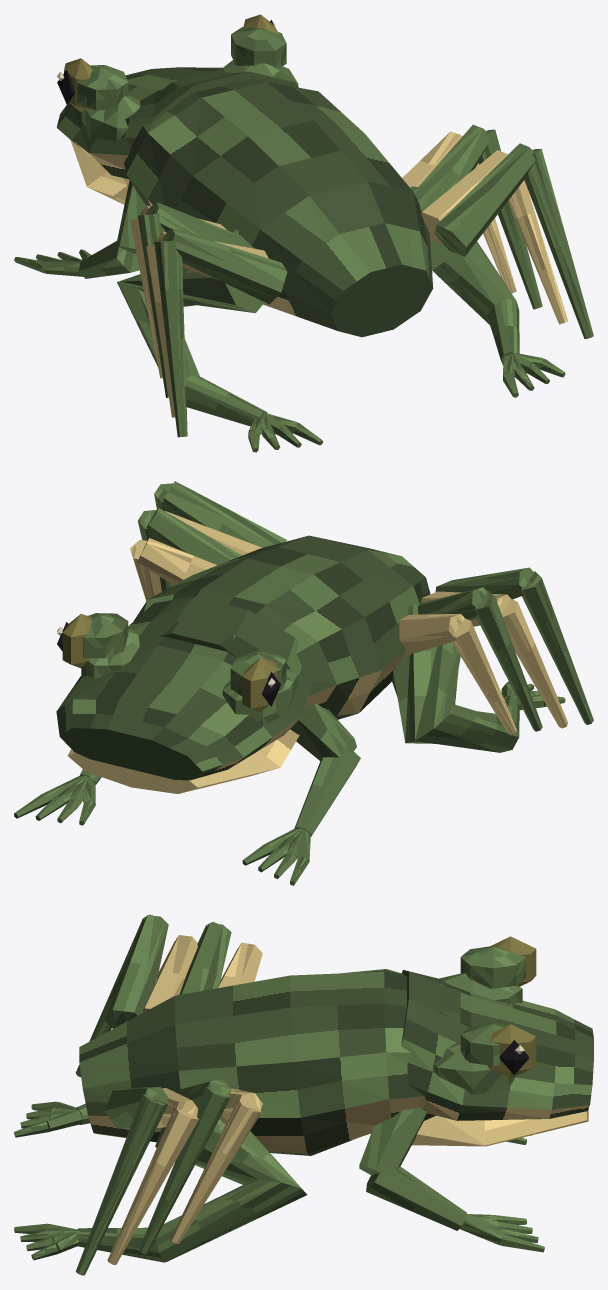
The model's file is mon_green_worm.glb.
The picture shows the model from 3 angles, top to bottom: view 1: azimuth 30°, elevation 25°; view 2: azimuth 150°, elevation 25°; view 3: azimuth 270°, elevation 25°; orthographic projection.
Visible parts, largest first — view 1: closed_body; view 2: closed_body; view 3: closed_body.
Boxes of the visible parts, box(x1,y1,x2,y2) form: closed_body: box(14, 14, 593, 452); closed_body: box(14, 481, 593, 885); closed_body: box(14, 914, 593, 1275).
Bounding box in the file's own units: 0.1408 × 0.0666 × 0.1706.
1 material, 1 textured.
